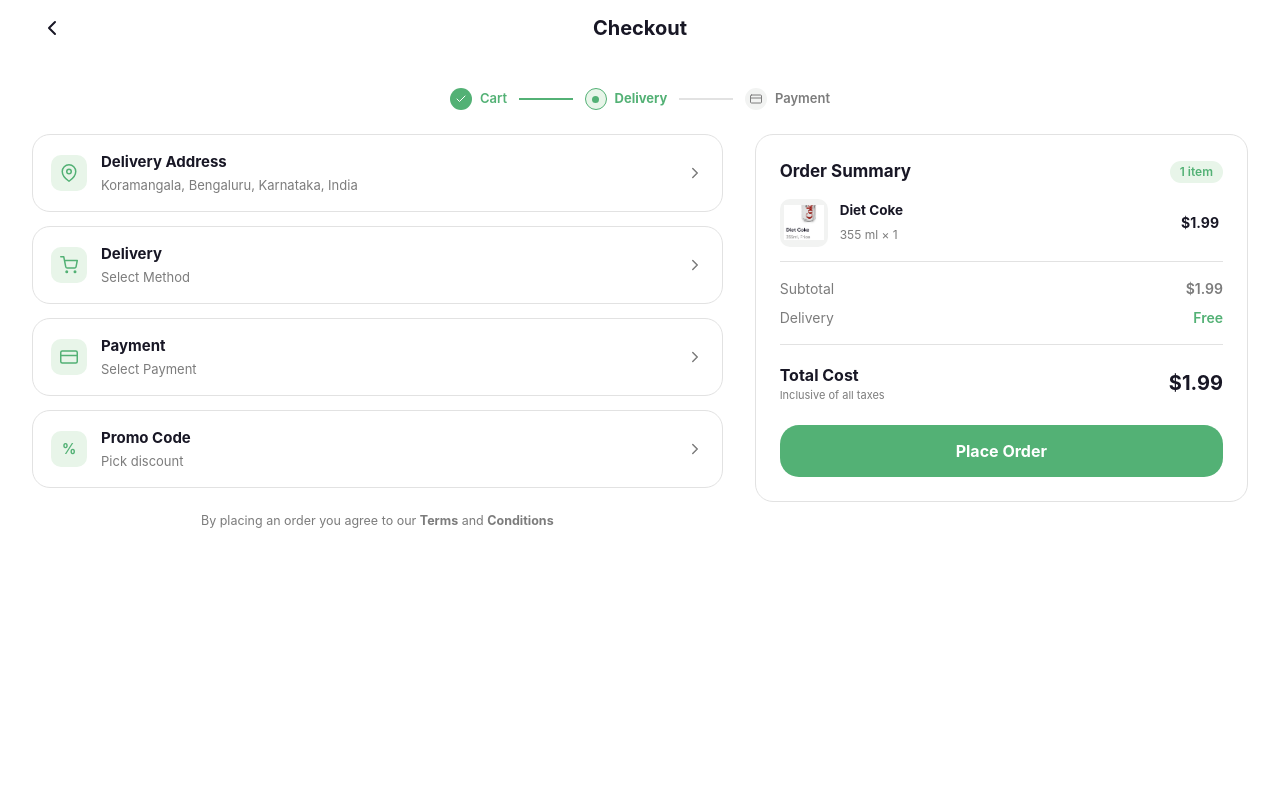
CheckoutPage › renders promo code input when section is expanded
Click the text "Pick discount": (146, 461) [101,452,191,471]
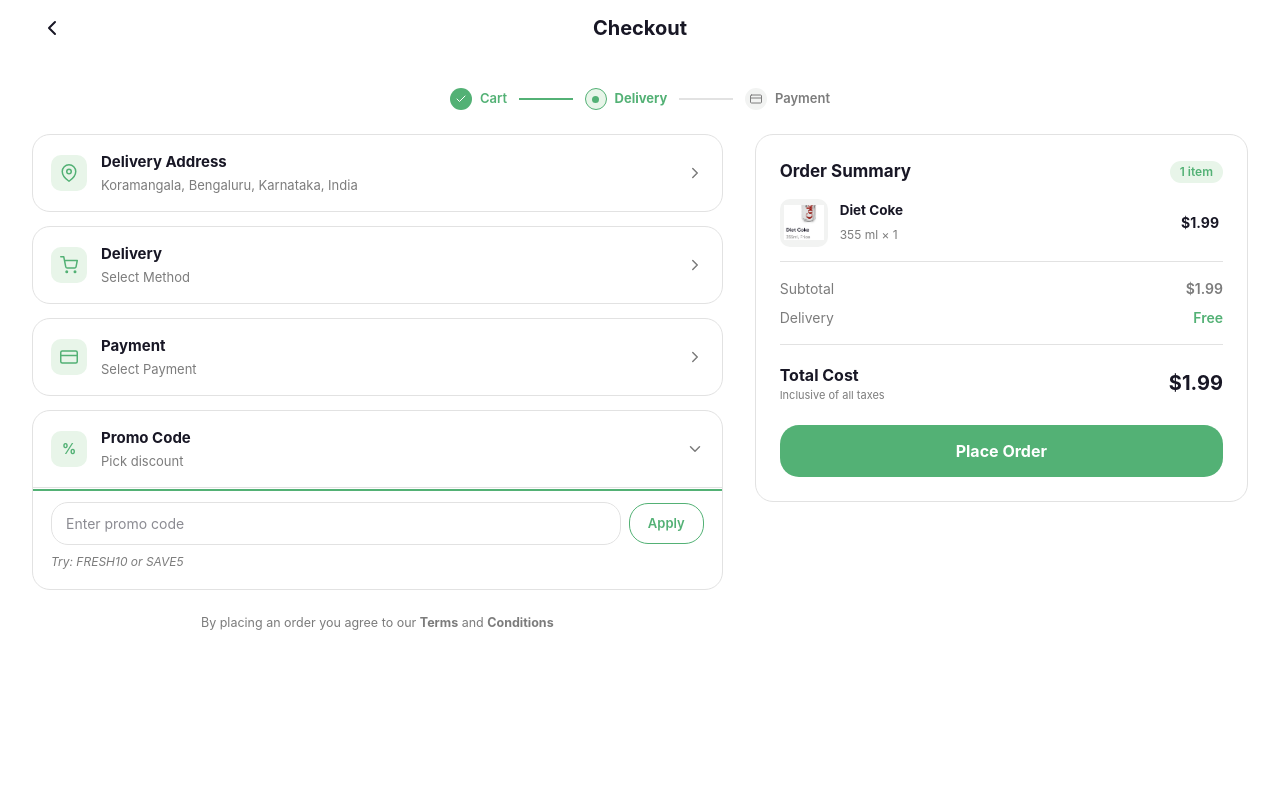
Check: the field with placeholder "Enter promo code" is shown, box [51,502,621,545]
